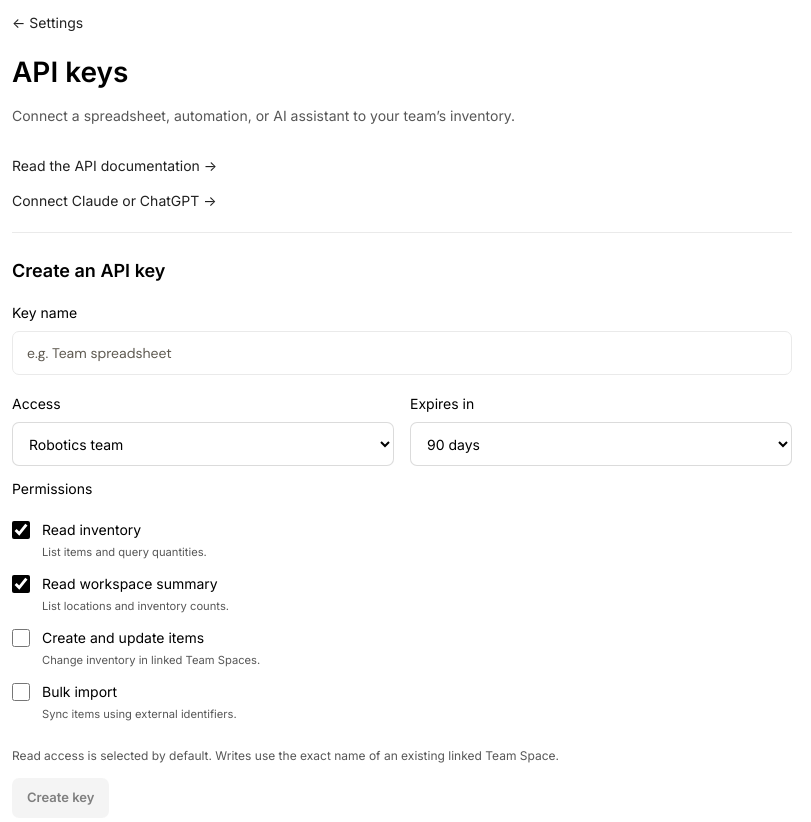
Test: copy failure leaves the secret selectable and displays an error
This screenshot has width=811, height=822.
Type "Team spreadsheet" into the field labelled "Key name".
click(402, 353); type("Team spreadsheet")  # box [12, 331, 792, 375]
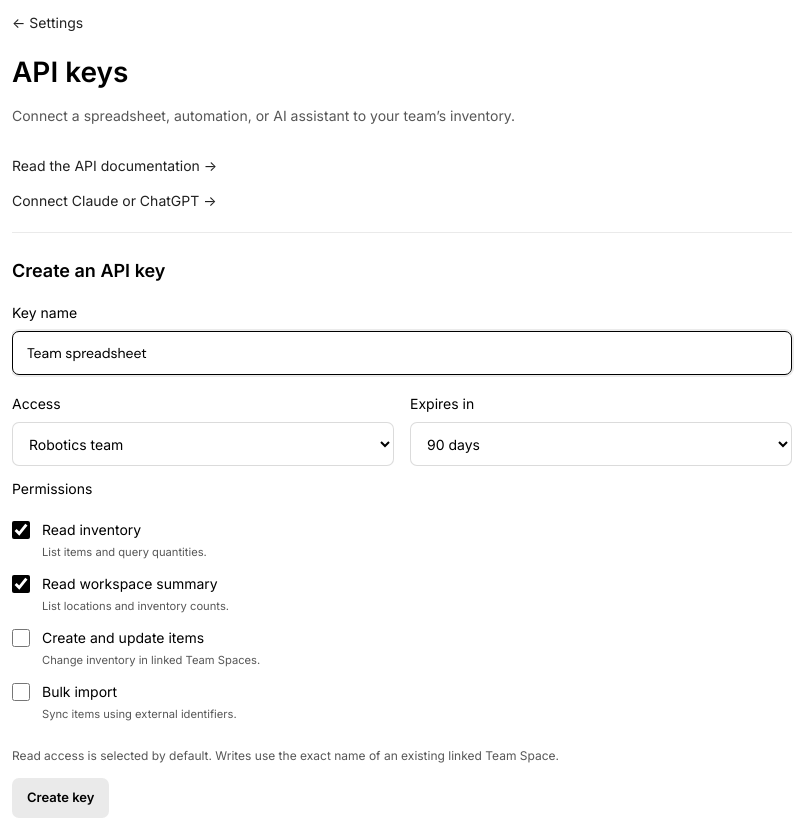
Click the button "Create key".
click(61, 798)  # box [12, 778, 109, 818]
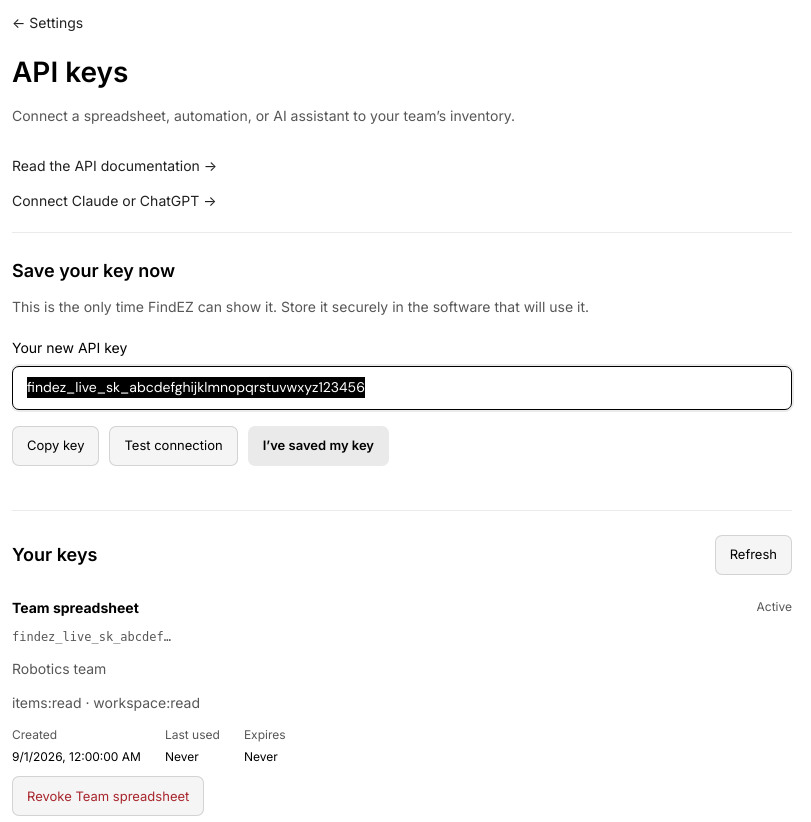
Click the button "Copy key".
click(56, 446)  # box [12, 426, 99, 466]
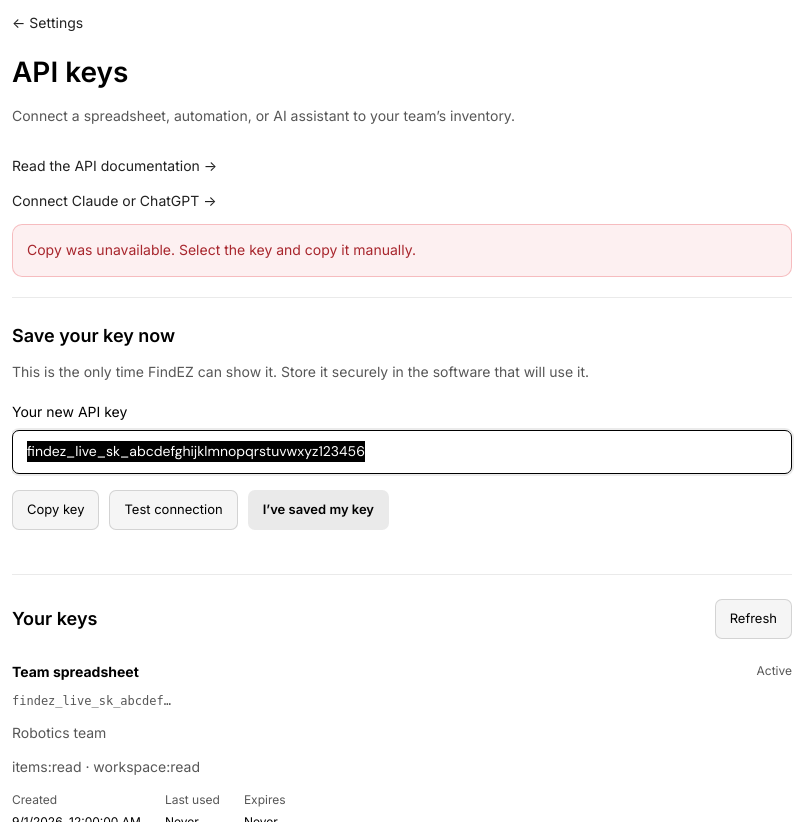
Check: the field showing "findez_live_sk_abcdefghijklmnopqrstuvwxyz123456" is shown, box [12, 430, 792, 474]
Check: the message shows "copy it manually", box [27, 241, 416, 258]
